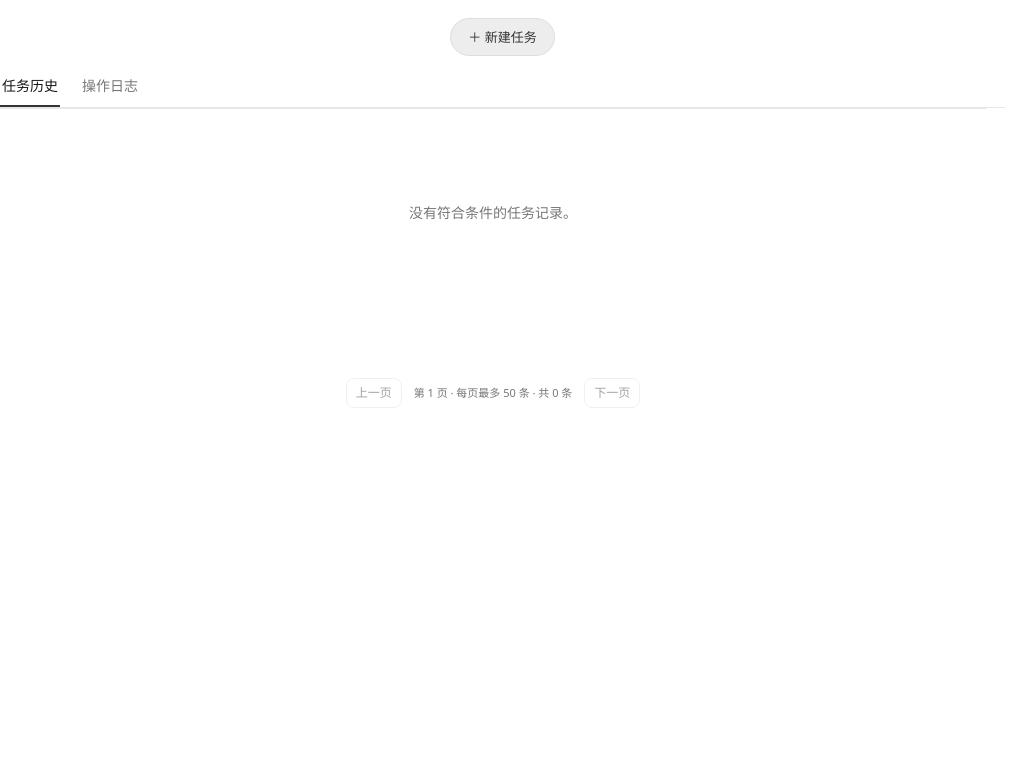
Test: TasksPage › shows the real backend execution policy for auto_tag without fake per-job controls
This screenshot has width=1024, height=768.
Click the button with class "new-task-button" at (502, 37), box [450, 18, 555, 56]
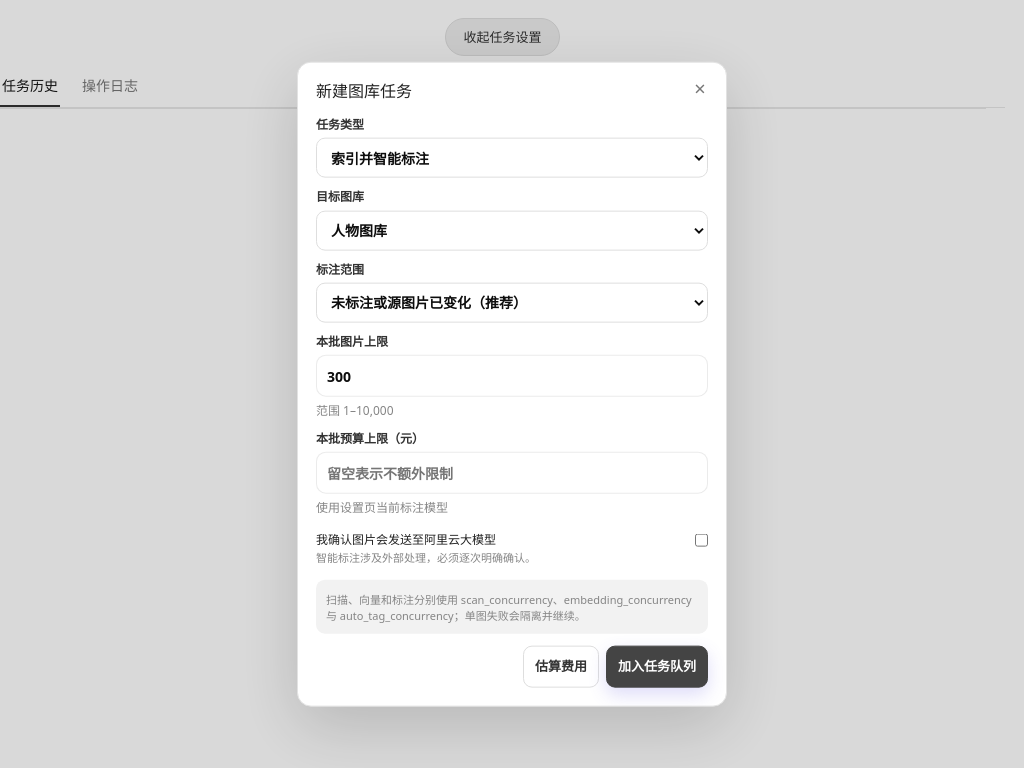
Select "智能标注" in the dropdown named "task_type" at (512, 158), box [316, 138, 708, 178]
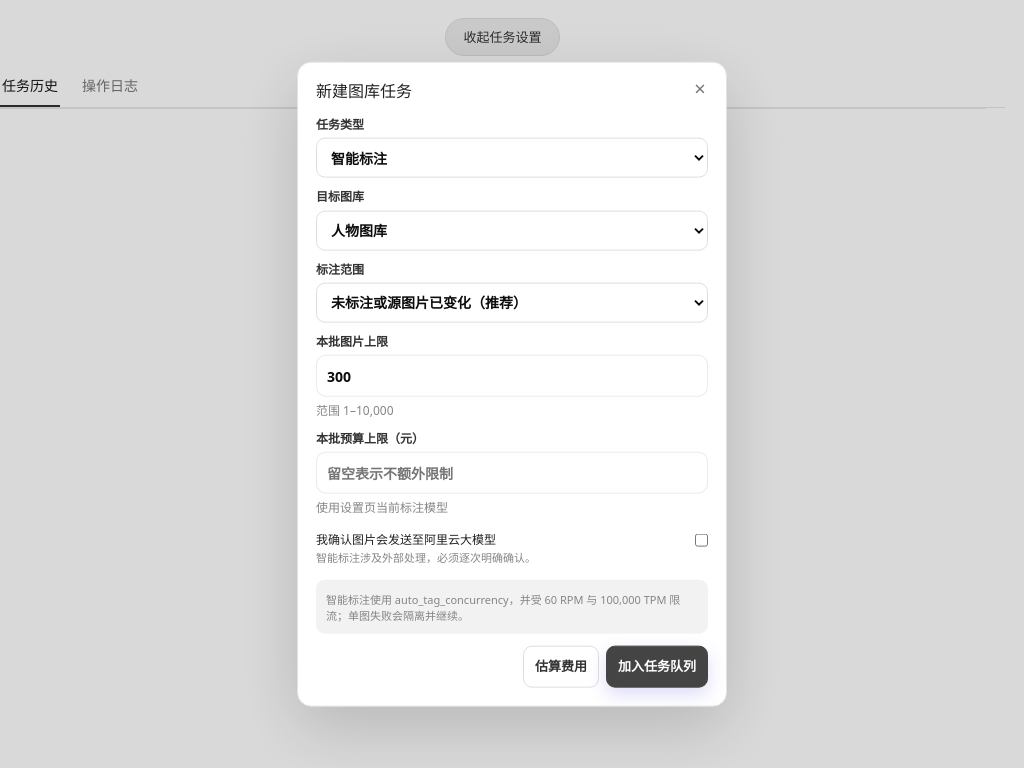
Now the element with test id "task-execution-policy" shows "auto_tag_concurrency", box [326, 592, 680, 622]
Now the element with test id "task-execution-policy" shows "60 RPM", box [326, 592, 680, 622]
